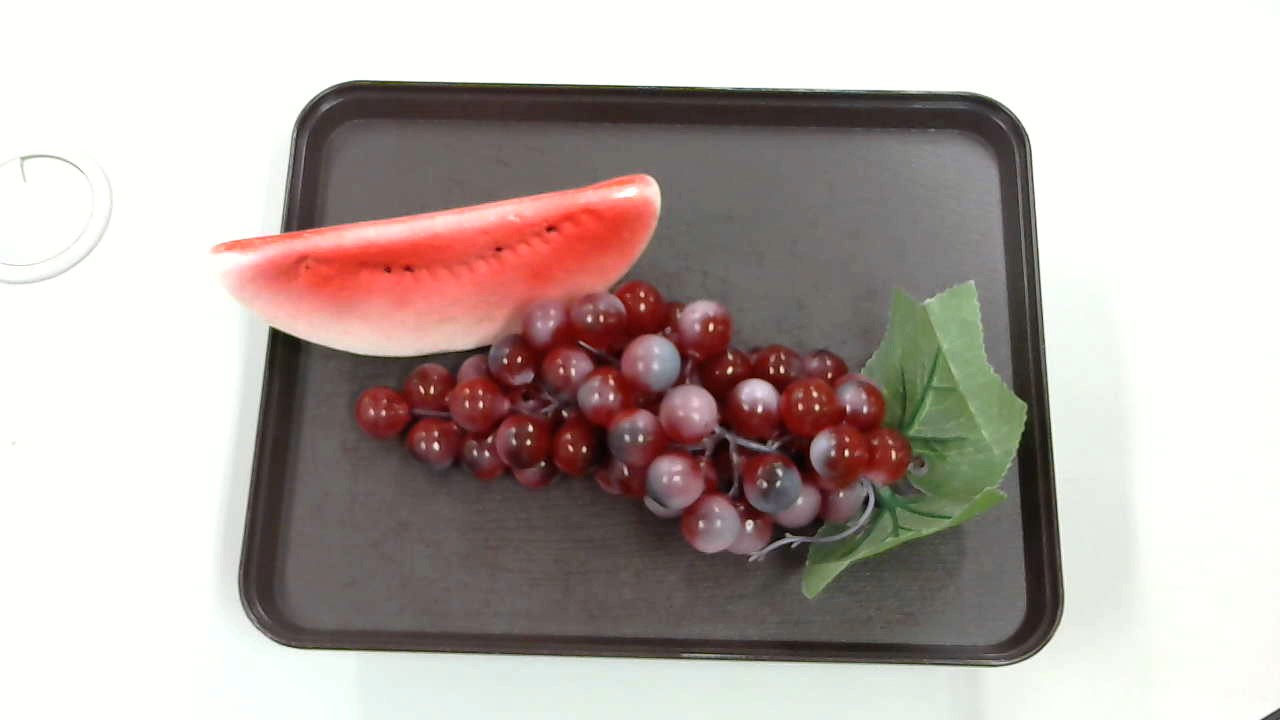grape: (347, 278, 1029, 610)
water melon: (201, 173, 664, 368)
